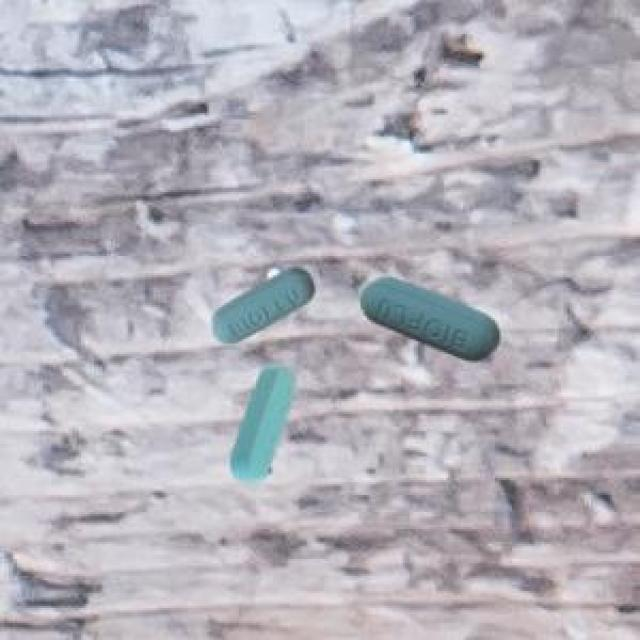Bioflu: (347, 258, 509, 375), (220, 356, 306, 491), (202, 260, 320, 346)
